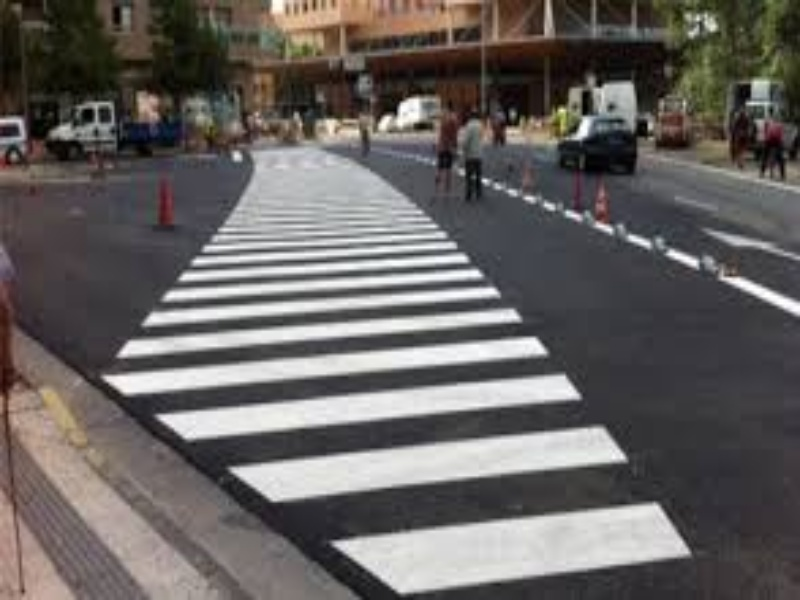zebra cross: (101, 147, 693, 591)
